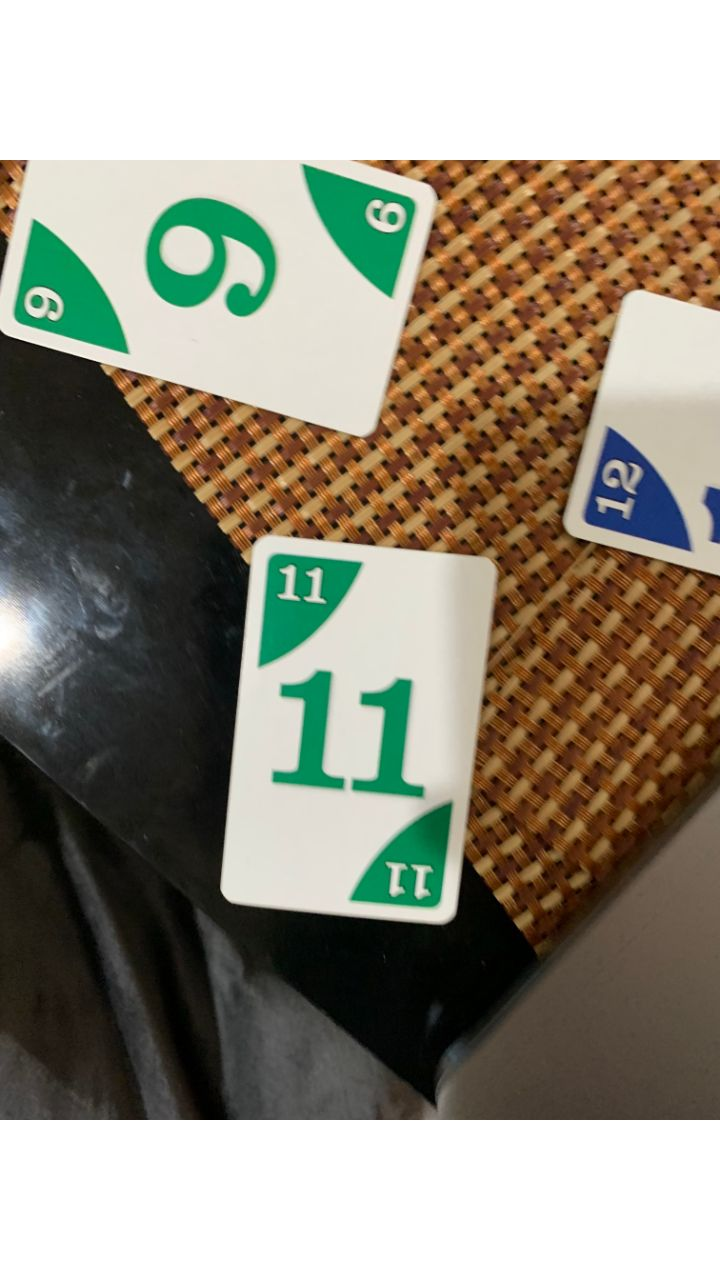eleven: (218, 533, 500, 928)
